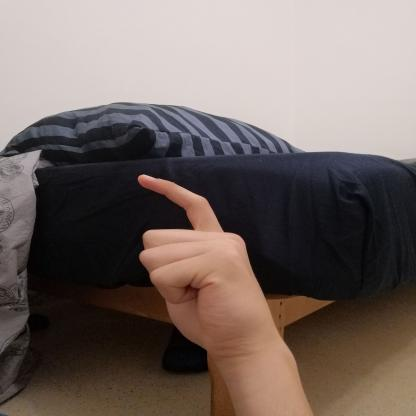RAA: (119, 162, 288, 359)
